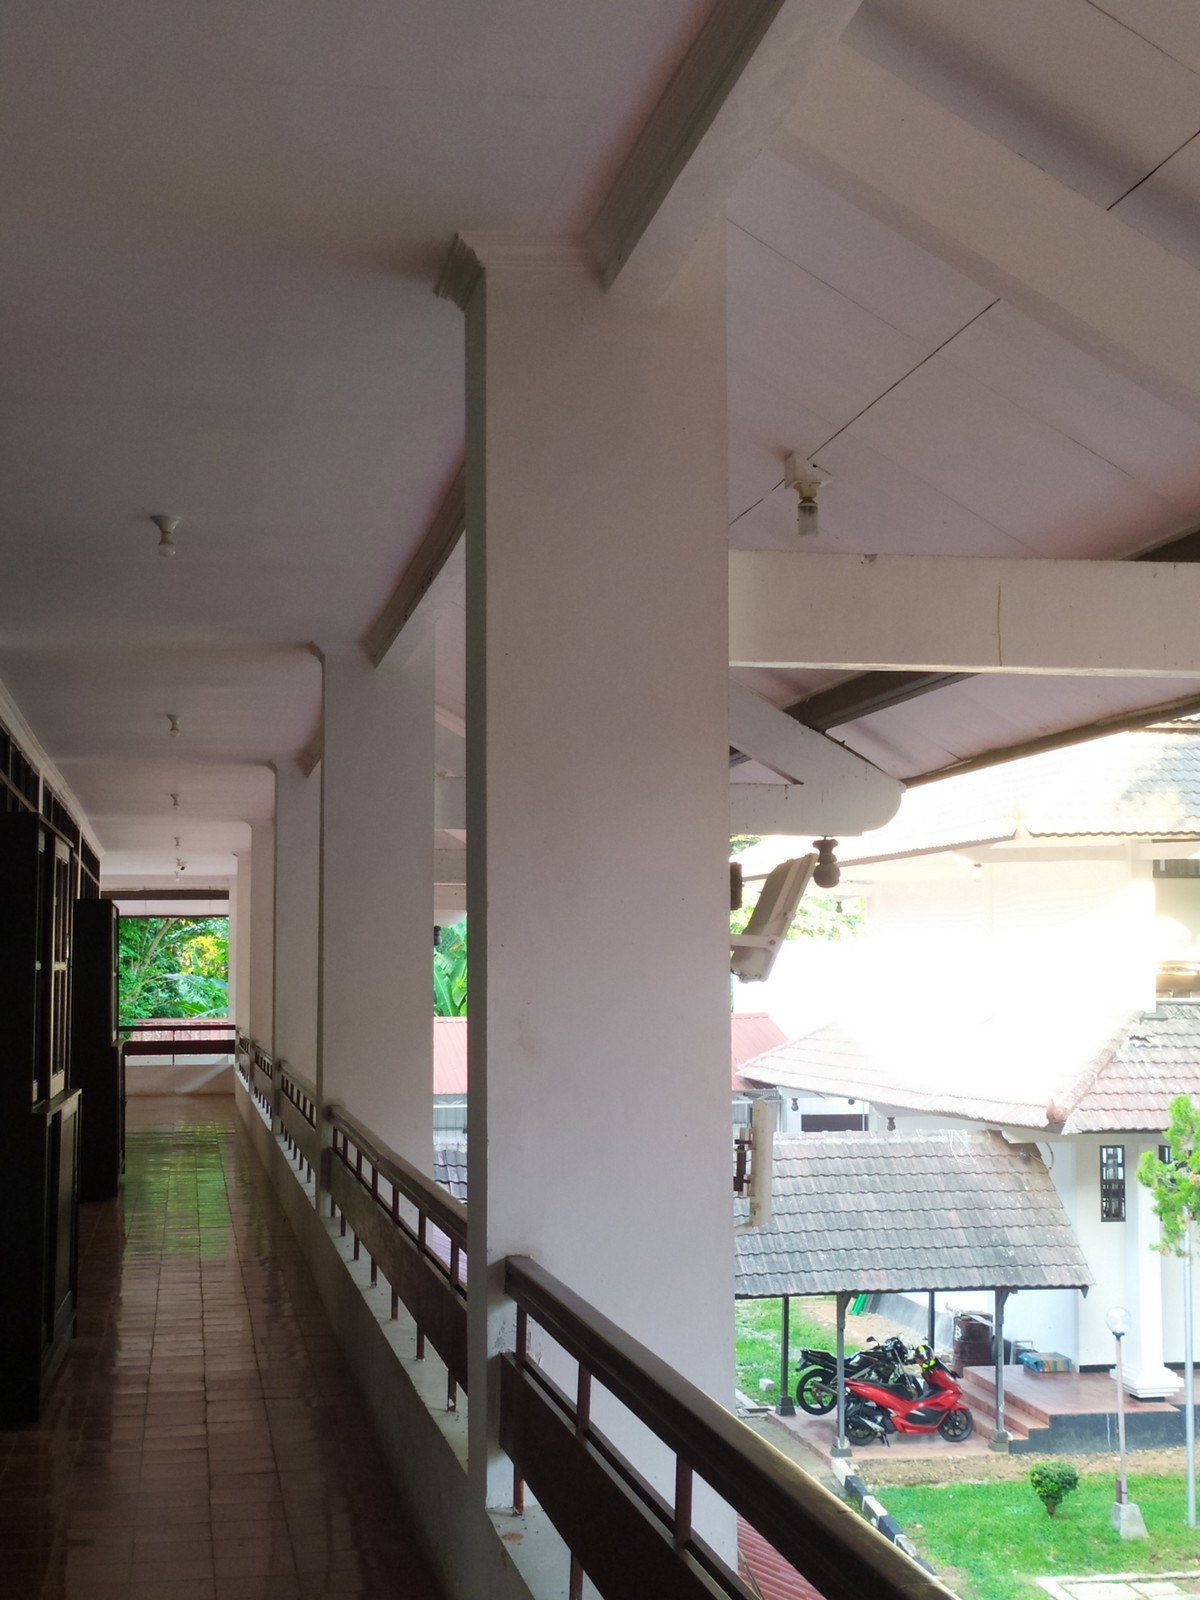concrete beam: (710, 544, 1199, 684)
concrete column: (456, 244, 742, 1562), (311, 643, 444, 1243)
